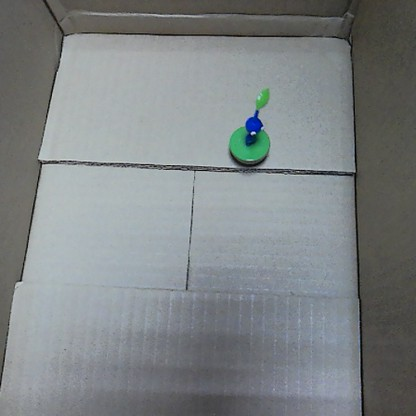leafairy: (227, 84, 273, 168)
